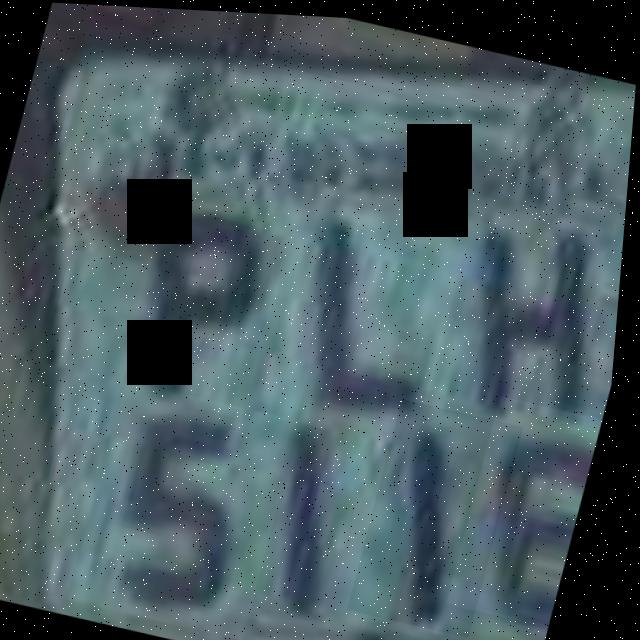1: (232, 386, 405, 634), (355, 393, 530, 633)
5: (77, 377, 309, 639)
6: (455, 388, 609, 622)
H: (439, 192, 629, 426)
J: (265, 176, 478, 435)
P: (102, 180, 297, 430)
